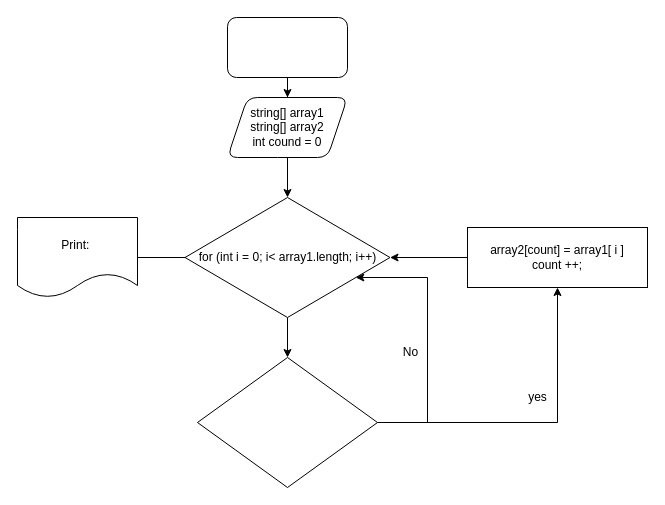
This 665x505 diagram has some shape labels left out. Here are the shapes that lost their labels. From the top down, the centre of each, then its label:
At point (287, 47): "SecondArrayWithIf".
At point (287, 422): "if (array1[ i ].length <= 3".
